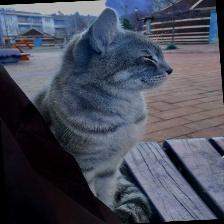kedo: (58, 9, 172, 164)
